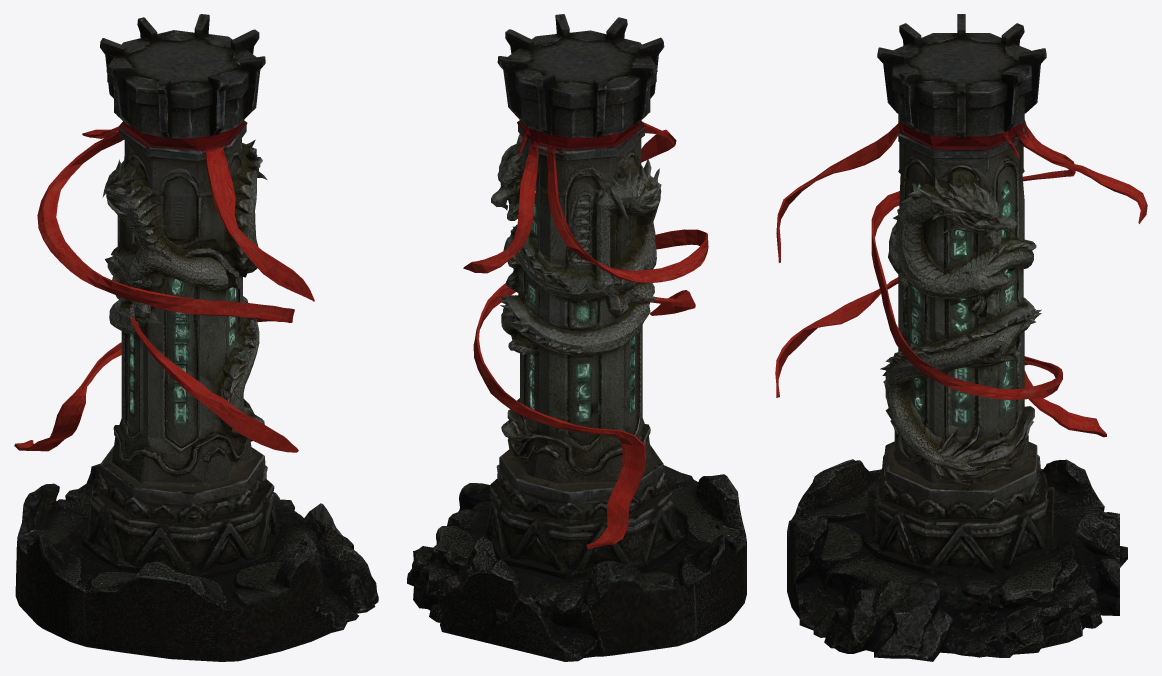
File: dragon_pillar.glb
The picture shows the model from 3 angles, left to right: view 1: azimuth 30°, elevation 25°; view 2: azimuth 150°, elevation 25°; view 3: azimuth 270°, elevation 25°; orthographic projection.
Visible parts, largest first — view 1: tripo_part_5, tripo_part_11, tripo_part_7, tripo_part_6, tripo_part_9, tripo_part_1, tripo_part_4, tripo_part_2, tripo_part_10, tripo_part_3, tripo_part_17, tripo_part_16 (+3 smaller); view 2: tripo_part_5, tripo_part_11, tripo_part_7, tripo_part_6, tripo_part_4, tripo_part_9, tripo_part_10, tripo_part_16, tripo_part_14, tripo_part_18, tripo_part_13, tripo_part_17 (+3 smaller); view 3: tripo_part_11, tripo_part_5, tripo_part_7, tripo_part_6, tripo_part_4, tripo_part_10, tripo_part_14, tripo_part_13, tripo_part_9, tripo_part_0, tripo_part_1, tripo_part_2 (+5 smaller).
Part boxes in pixels (<box>): tripo_part_5: <box>102,138,267,486</box>; tripo_part_11: <box>15,463,378,661</box>; tripo_part_7: <box>73,446,282,578</box>; tripo_part_6: <box>100,14,265,138</box>; tripo_part_9: <box>37,131,271,319</box>; tripo_part_1: <box>205,148,314,301</box>; tripo_part_4: <box>109,296,264,438</box>; tripo_part_2: <box>129,312,298,452</box>; tripo_part_10: <box>118,120,247,163</box>; tripo_part_3: <box>159,177,196,239</box>; tripo_part_17: <box>28,483,82,545</box>; tripo_part_16: <box>14,378,88,451</box>; tripo_part_5: <box>501,138,661,483</box>; tripo_part_11: <box>407,465,746,661</box>; tripo_part_7: <box>461,445,684,579</box>; tripo_part_6: <box>497,14,664,138</box>; tripo_part_4: <box>500,295,652,417</box>; tripo_part_9: <box>547,154,708,283</box>; tripo_part_10: <box>517,120,645,168</box>; tripo_part_16: <box>586,430,646,548</box>; tripo_part_14: <box>473,283,633,438</box>; tripo_part_18: <box>463,154,538,273</box>; tripo_part_13: <box>491,134,523,220</box>; tripo_part_17: <box>586,560,671,600</box>; tripo_part_11: <box>787,459,1127,661</box>; tripo_part_5: <box>888,142,1036,484</box>; tripo_part_7: <box>862,441,1058,579</box>; tripo_part_6: <box>877,14,1046,137</box>; tripo_part_4: <box>880,297,1041,476</box>; tripo_part_10: <box>889,120,1030,159</box>; tripo_part_14: <box>884,283,1062,399</box>; tripo_part_13: <box>948,178,1016,247</box>; tripo_part_9: <box>871,126,1075,329</box>; tripo_part_0: <box>789,513,828,581</box>; tripo_part_1: <box>776,123,898,262</box>; tripo_part_2: <box>775,277,898,397</box>.
Size of the model in its own units: 0.5867 by 0.9994 by 0.6278.
Materials: 1 (1 with a texture image).
